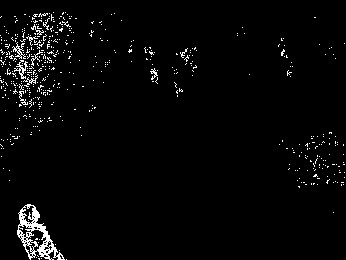person: (15, 204, 67, 260)
